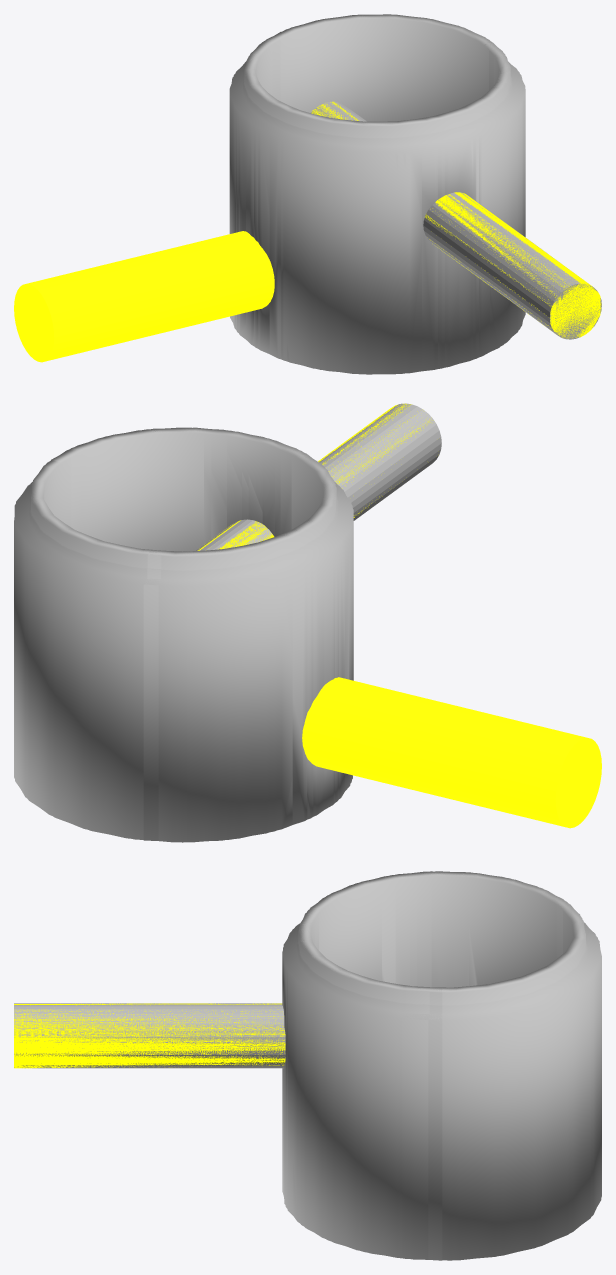
The model's file is LOT131c_fea8a3b9.glb.
3 views of the same model, one above another, from view 1: azimuth 30°, elevation 25°; view 2: azimuth 150°, elevation 25°; view 3: azimuth 270°, elevation 25° (orthographic). The views are drawn at different scales.
Parts seen in each view (by area): view 1: 1200x1.219mr_Obj, Cylinder, Cylinder.001; view 2: 1200x1.219mr_Obj, Cylinder, Cylinder.001; view 3: 1200x1.219mr_Obj, Cylinder.001.
Boxes of the visible parts, <box> form: 1200x1.219mr_Obj: <box>229,14,601,374</box>; Cylinder: <box>14,231,274,362</box>; Cylinder.001: <box>311,101,601,338</box>; 1200x1.219mr_Obj: <box>14,403,441,842</box>; Cylinder: <box>302,677,601,828</box>; Cylinder.001: <box>197,403,433,550</box>; 1200x1.219mr_Obj: <box>14,871,601,1260</box>; Cylinder.001: <box>14,1003,285,1068</box>.
Size of the model in its own units: 2.71 by 1.33 by 2.71.
